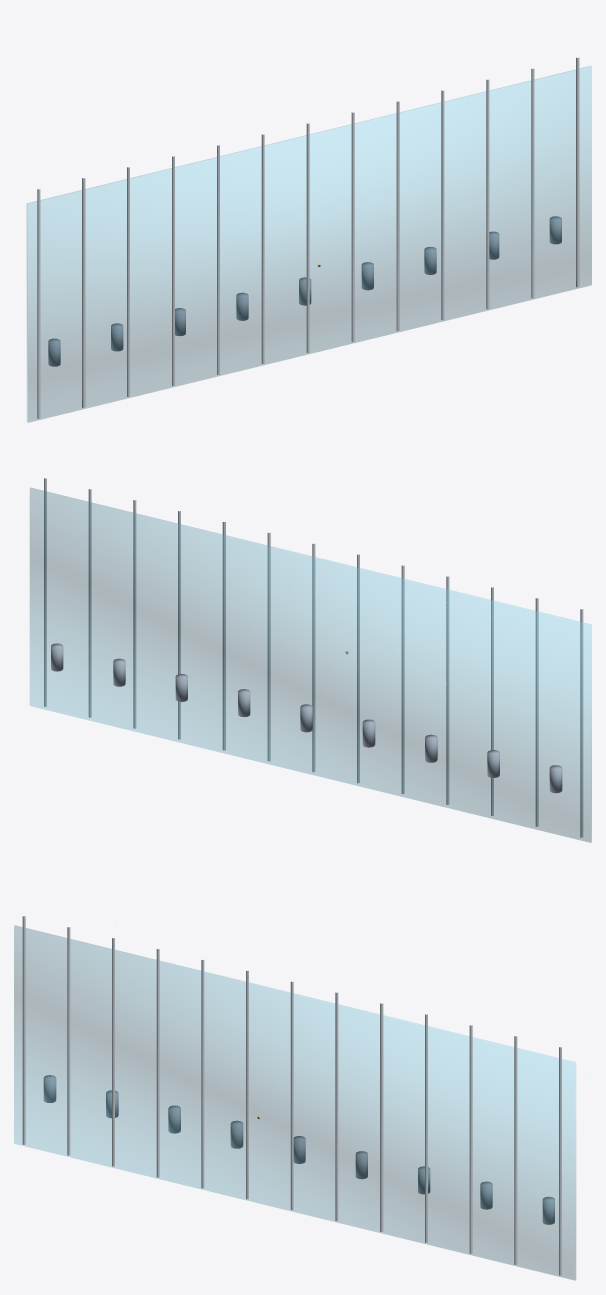
Rendered from 01_L88_PanoramicOrbitalGardenViewport.glb.
The picture shows the model from 3 angles, top to bottom: view 1: azimuth 30°, elevation 25°; view 2: azimuth 150°, elevation 25°; view 3: azimuth 330°, elevation 25°; orthographic projection.
Parts seen in each view (by area): view 1: L87_PanoramicOrbitalGardenVie_Part_0000, L87_PanoramicOrbitalGardenVie_Part_0001, L87_PanoramicOrbitalGardenVie_Part_0002; view 2: L87_PanoramicOrbitalGardenVie_Part_0000, L87_PanoramicOrbitalGardenVie_Part_0001, L87_PanoramicOrbitalGardenVie_Part_0002; view 3: L87_PanoramicOrbitalGardenVie_Part_0000, L87_PanoramicOrbitalGardenVie_Part_0001, L87_PanoramicOrbitalGardenVie_Part_0002.
Boxes of the visible parts, box(x1,y1,x2,y2) form: L87_PanoramicOrbitalGardenVie_Part_0000: box(27, 66, 591, 422); L87_PanoramicOrbitalGardenVie_Part_0001: box(37, 57, 579, 418); L87_PanoramicOrbitalGardenVie_Part_0002: box(48, 216, 561, 366); L87_PanoramicOrbitalGardenVie_Part_0000: box(30, 488, 591, 842); L87_PanoramicOrbitalGardenVie_Part_0001: box(44, 478, 583, 837); L87_PanoramicOrbitalGardenVie_Part_0002: box(51, 643, 562, 793); L87_PanoramicOrbitalGardenVie_Part_0000: box(14, 925, 575, 1280); L87_PanoramicOrbitalGardenVie_Part_0001: box(22, 916, 561, 1275); L87_PanoramicOrbitalGardenVie_Part_0002: box(43, 1075, 554, 1224).
Bounding box in the file's own units: 27.43 × 12.59 × 2.82.
